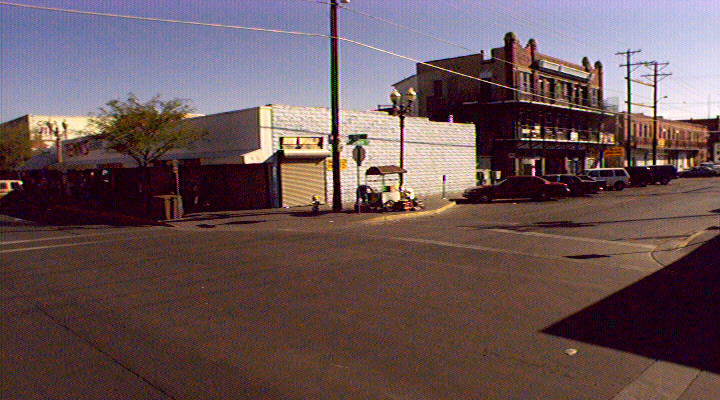Ramp: (171, 208, 381, 233)
